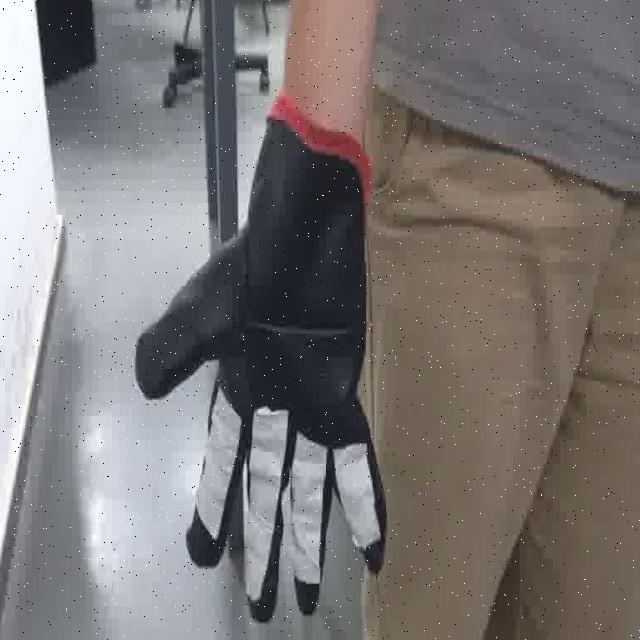Gloves: (132, 104, 394, 628)
